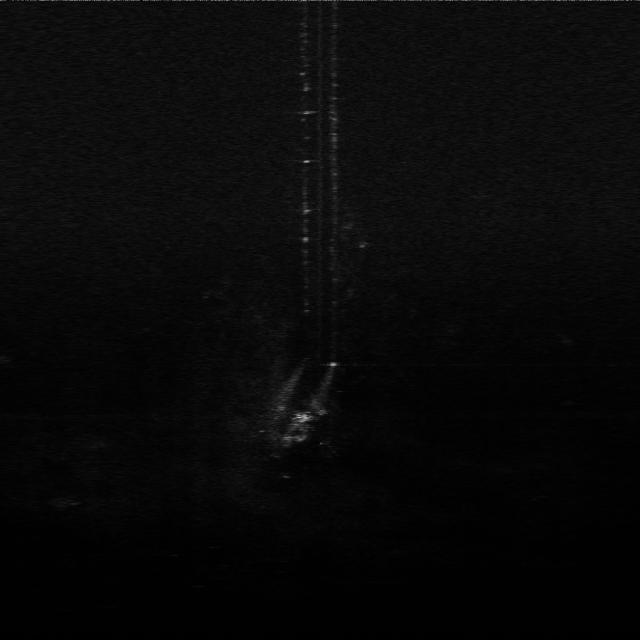rov: (288, 409, 318, 427)
